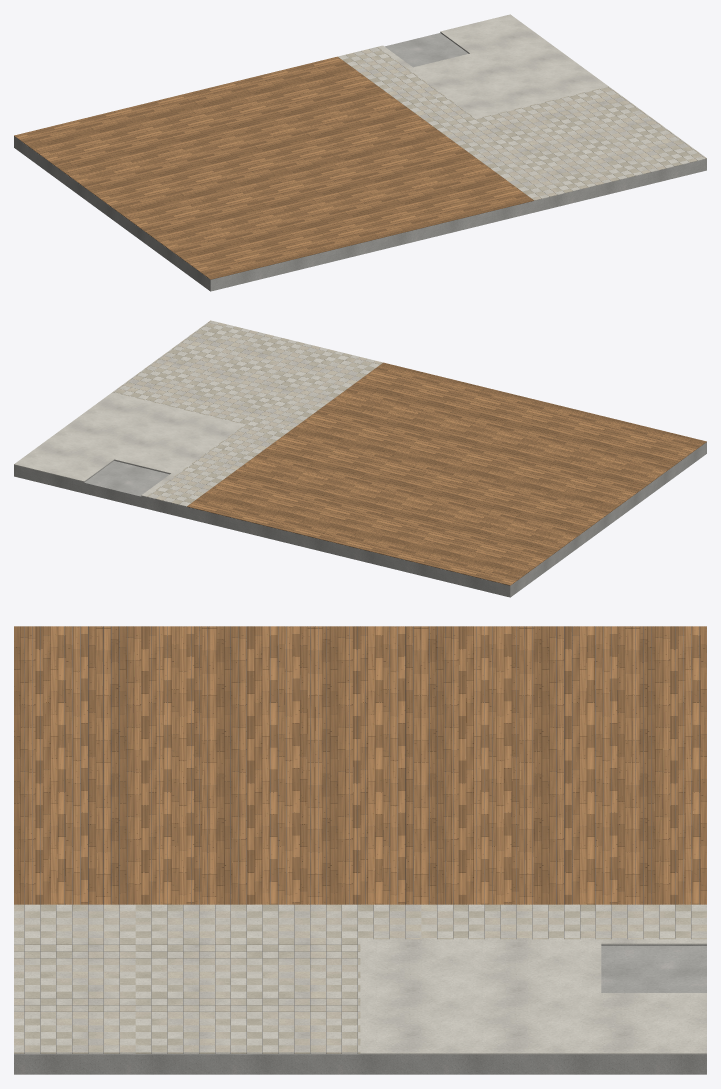
Rendered from ground_slab.glb.
The picture shows the model from 3 angles, top to bottom: view 1: azimuth 30°, elevation 25°; view 2: azimuth 150°, elevation 25°; view 3: azimuth 270°, elevation 25°; orthographic projection. The views are drawn at different scales.
Visible parts, largest first — view 1: ground_slab_floor_w, ground_slab_tile_h, ground_slab_stone, ground_slab_conc_s; view 2: ground_slab_floor_w, ground_slab_tile_h, ground_slab_stone, ground_slab_conc_s; view 3: ground_slab_floor_w, ground_slab_tile_h, ground_slab_stone, ground_slab_conc_s, ground_slab_dark.
Boxes of the visible parts, box(x1,y1,x2,y2) form: ground_slab_floor_w: box(14, 56, 533, 279); ground_slab_tile_h: box(338, 14, 705, 198); ground_slab_stone: box(342, 47, 706, 200); ground_slab_conc_s: box(14, 32, 706, 291); ground_slab_floor_w: box(187, 362, 706, 585); ground_slab_tile_h: box(14, 321, 379, 506); ground_slab_stone: box(112, 320, 382, 504); ground_slab_conc_s: box(14, 442, 706, 597); ground_slab_floor_w: box(14, 626, 706, 904); ground_slab_tile_h: box(14, 904, 706, 1054); ground_slab_stone: box(14, 904, 706, 1053); ground_slab_conc_s: box(14, 944, 706, 1074); ground_slab_dark: box(24, 626, 699, 1053).
Bounding box in the file's own units: 19.1 × 0.45 × 13.1.
Materials: 5 (4 with a texture image).
